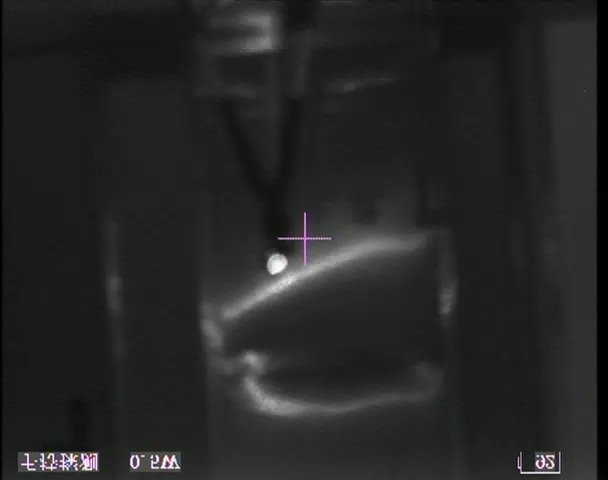my: (264, 251, 290, 276)
